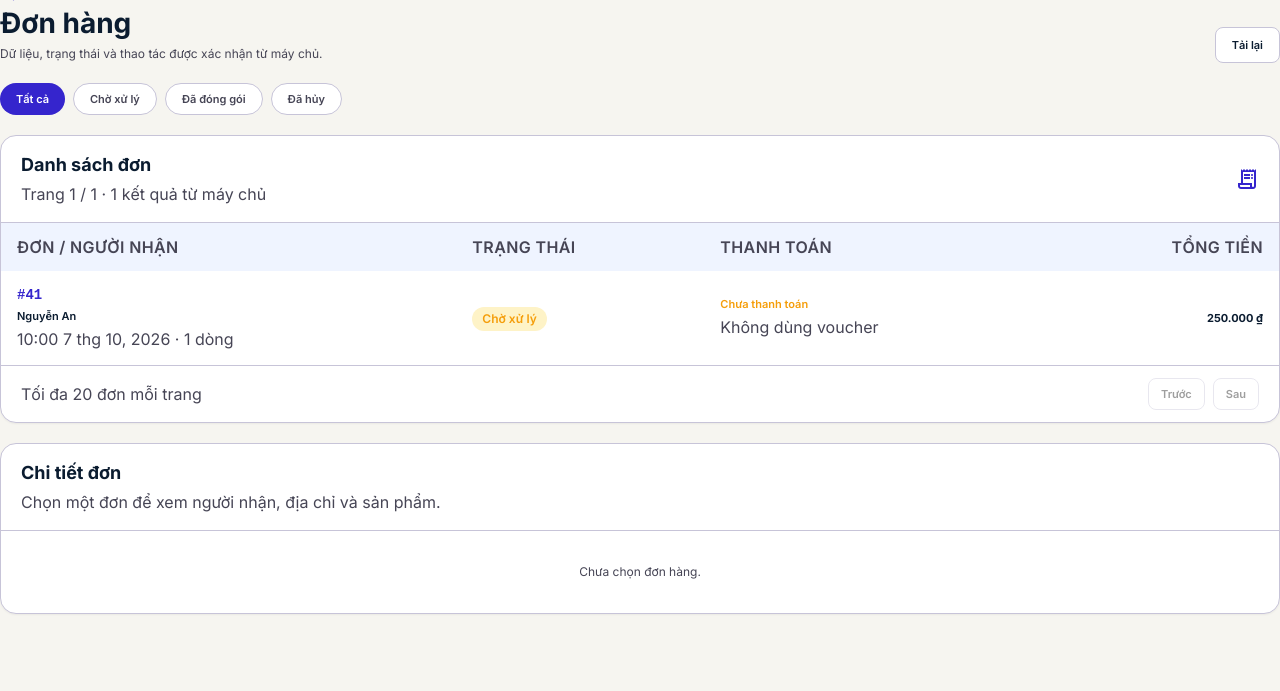
React Admin custom workflows › packs a COD order, confirms collection, then loads its internal receipt
Click the button "#41" at (125, 318), box 17,285 -> 234,351
(page scrolled)
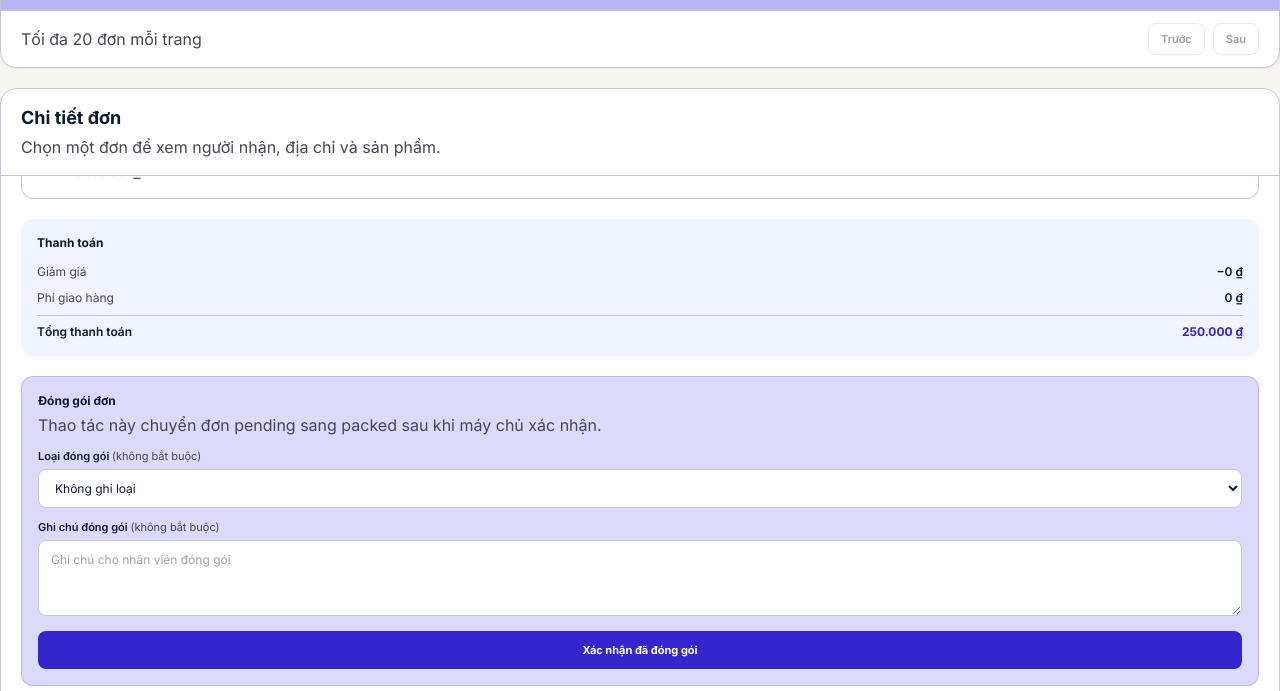
Select "Hộp" in the dropdown labelled "Loại đóng gói (không bắt buộc)" at (640, 488), box 38,469 -> 1242,508
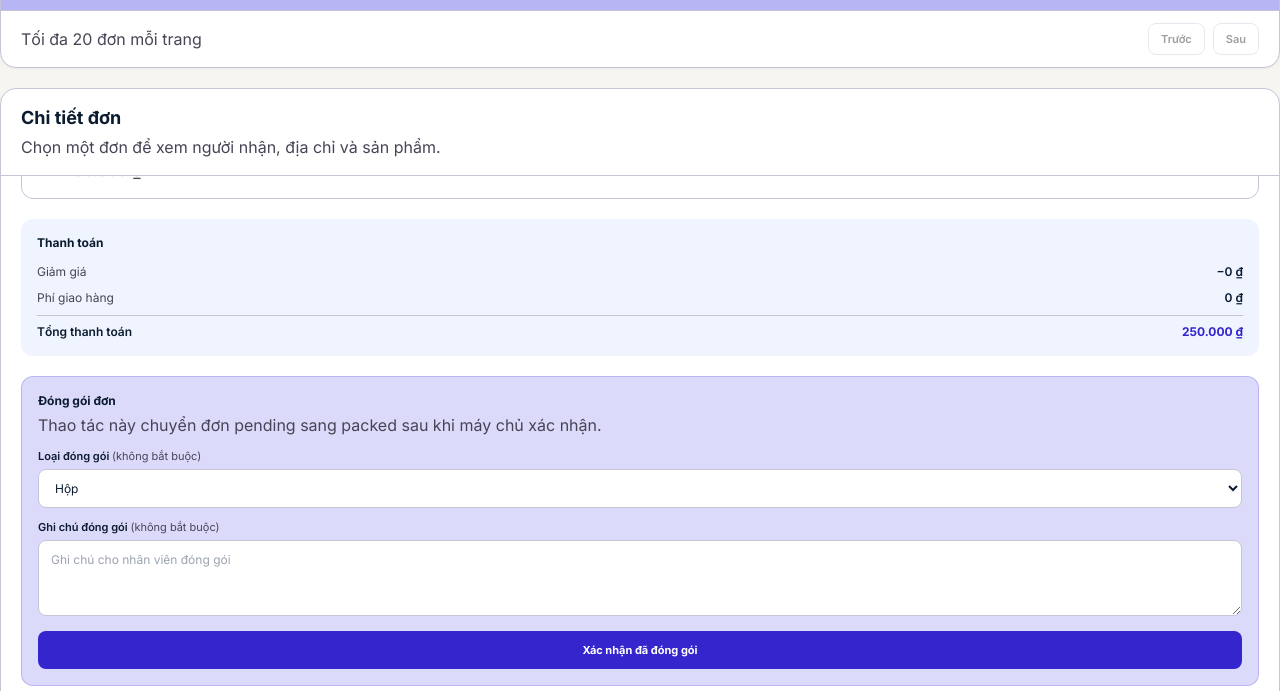
Type "Đóng gói chắc chắn" into the text box labelled "Ghi chú đóng gói (không bắt buộc)" at (640, 578), box 38,540 -> 1242,616
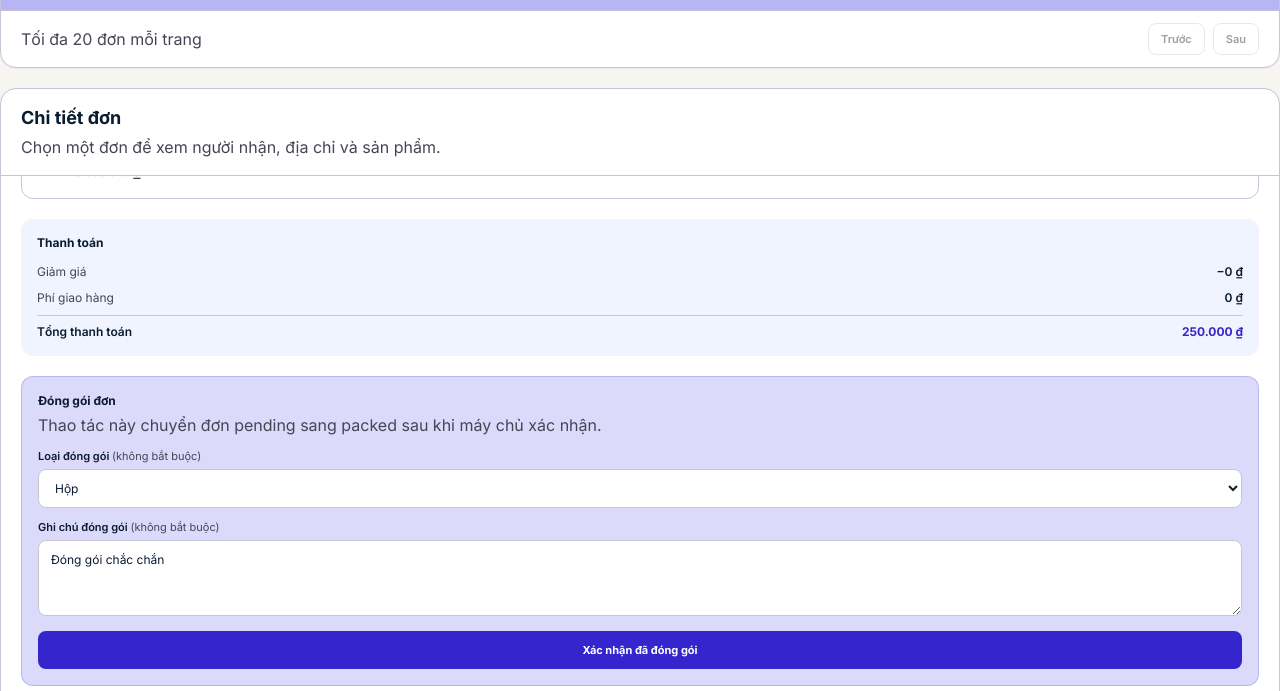
Click the button "Xác nhận đã đóng gói" at (640, 650), box 38,631 -> 1242,669
(page scrolled)
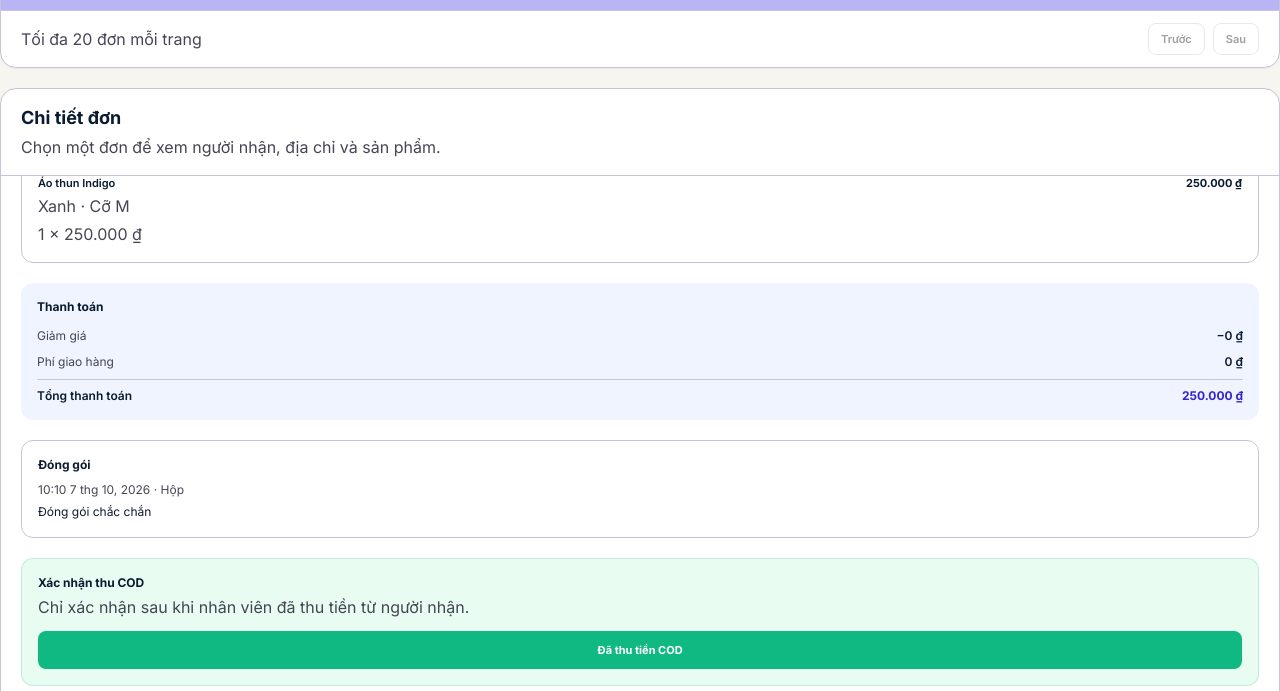
Click the button "Đã thu tiền COD" at (640, 650), box 38,631 -> 1242,669
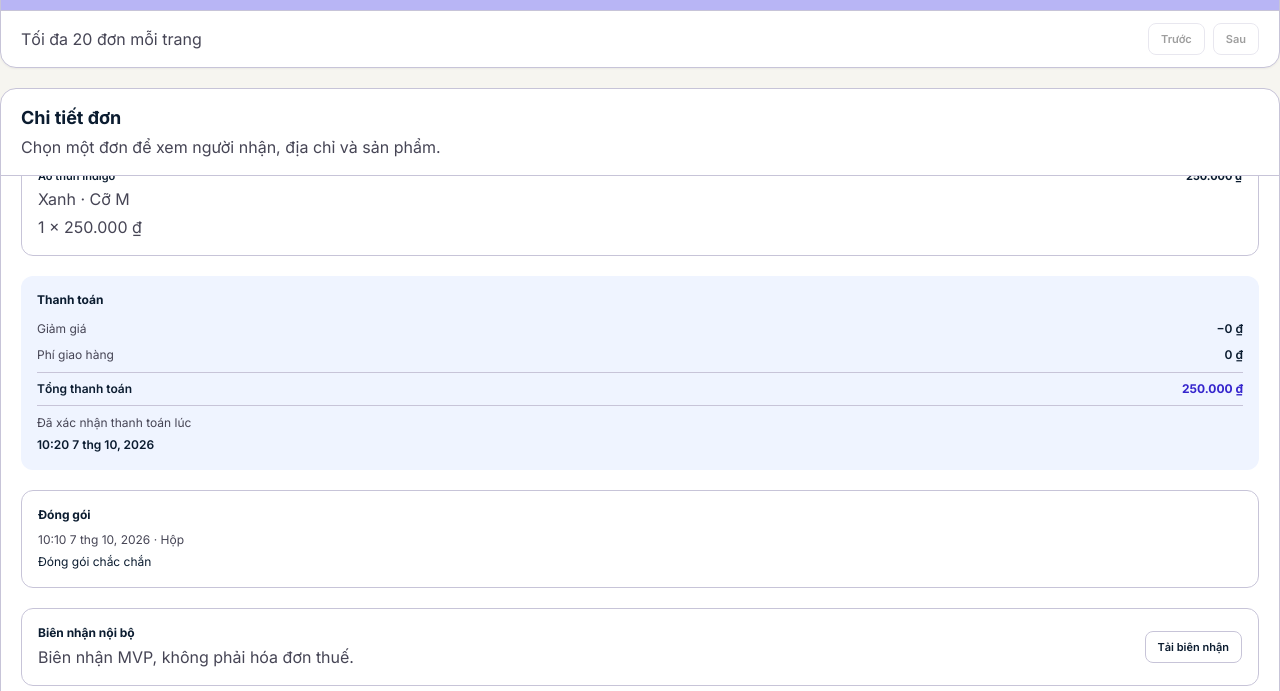
Click the button "Tải biên nhận" at (1193, 647), box 1144,631 -> 1242,663
(page scrolled)
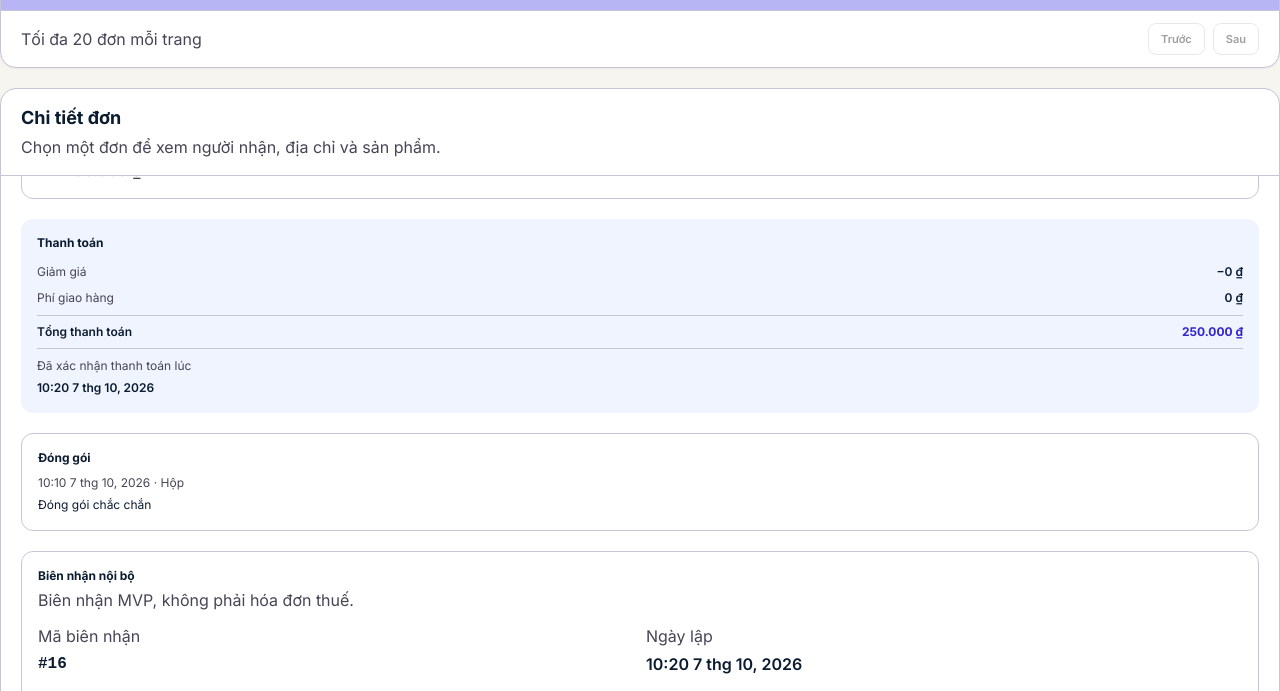
Now the text "#16" is shown, box 38,655 -> 67,673
